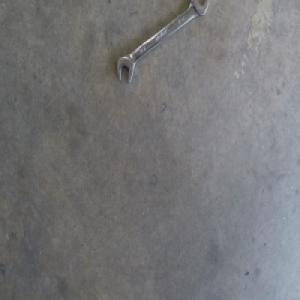Wrench: (116, 0, 207, 84)
